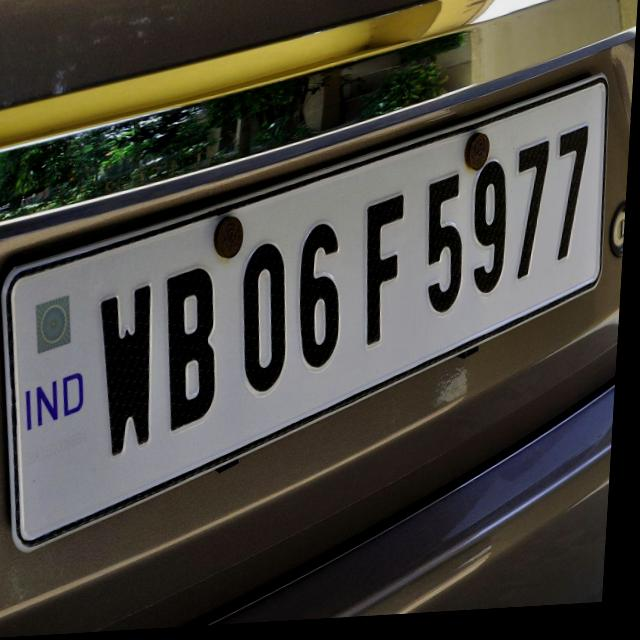0: (238, 245, 300, 406)
5: (422, 178, 477, 326)
6: (295, 223, 355, 383)
7: (513, 148, 554, 293), (555, 131, 594, 273)
9: (469, 168, 520, 305)
b: (163, 264, 231, 441)
f: (358, 190, 416, 360)
w: (96, 283, 169, 463)
